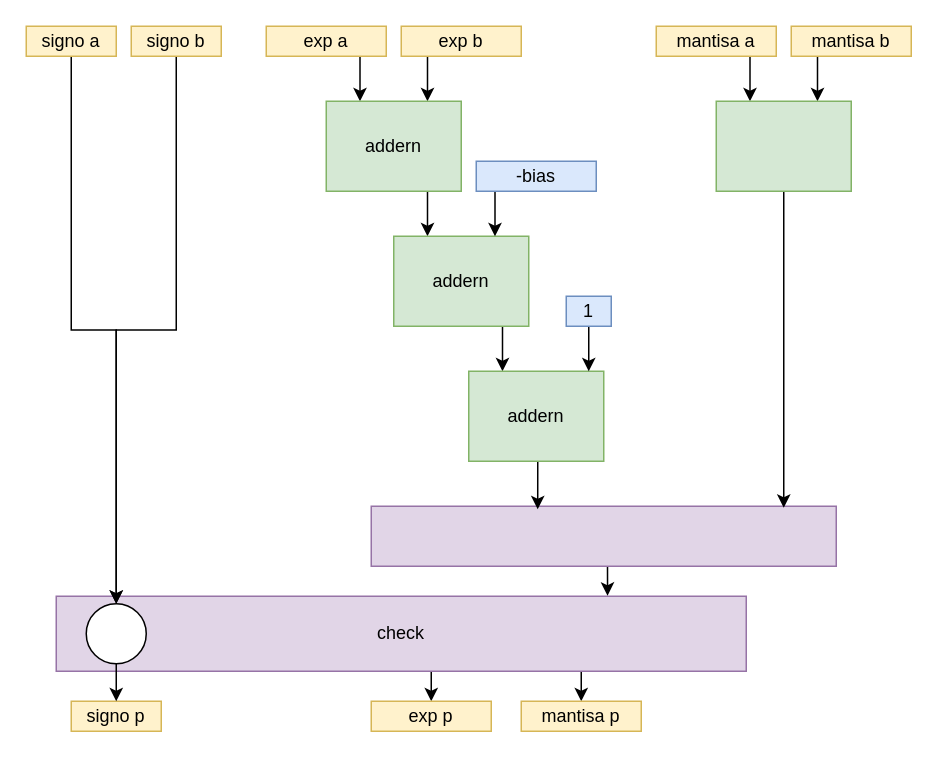
This 938x758 diagram has some shape labels left out. The centre of each missing label's shape, as x and y in pixels:
"mul" belongs at [783,145].
"normalize" belongs at [603,535].
"XOR" belongs at [115,633].
